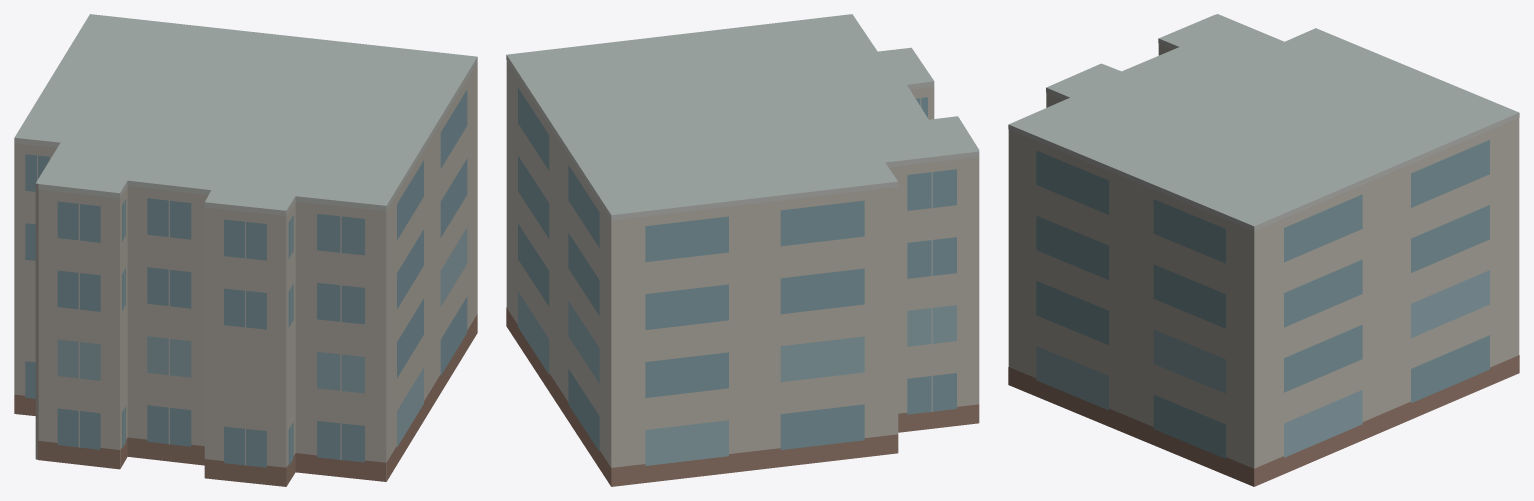
File: survey-upis-32586838.glb
The picture shows the model from 3 angles, left to right: view 1: azimuth 30°, elevation 25°; view 2: azimuth 150°, elevation 25°; view 3: azimuth 270°, elevation 25°; orthographic projection. The views are drawn at different scales.
Parts seen in each view (by area): view 1: survey-upis-32586838.tmp; view 2: survey-upis-32586838.tmp; view 3: survey-upis-32586838.tmp.
Part boxes in pixels (<box>): survey-upis-32586838.tmp: <box>14,14,477,486</box>; survey-upis-32586838.tmp: <box>506,14,979,486</box>; survey-upis-32586838.tmp: <box>1008,14,1519,486</box>.
Bounding box in the file's own units: 22.21 × 12.7 × 22.58.
